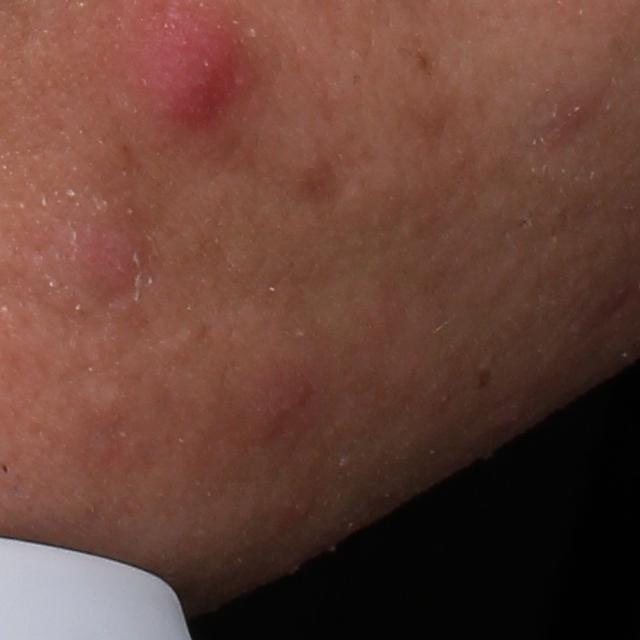hypertrophic_scar: (79, 378, 134, 412)
papule: (47, 209, 152, 302), (236, 363, 309, 446)
